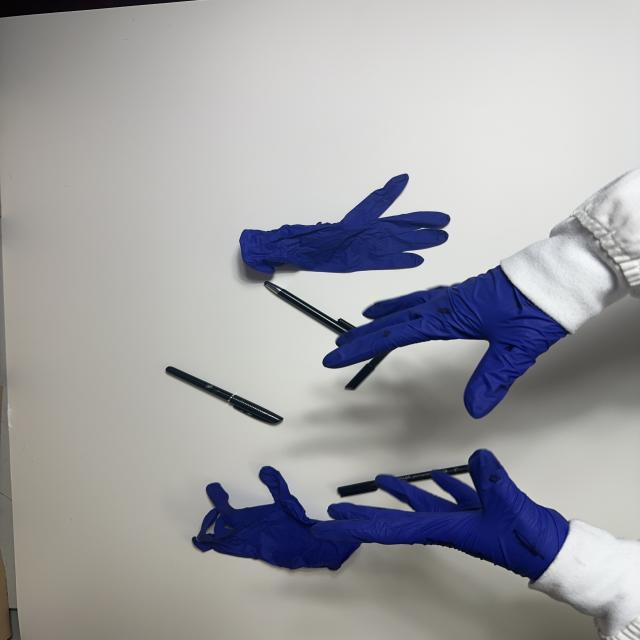gloves_contaminated: (323, 267, 567, 418), (317, 450, 568, 578)
